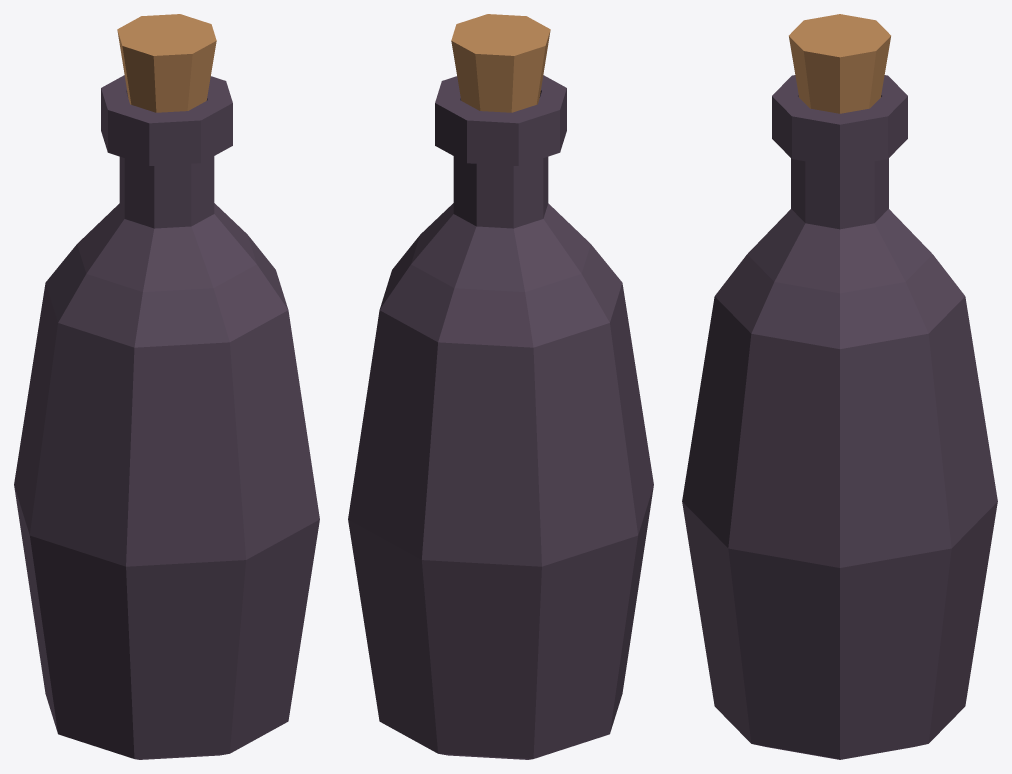
Rendered from Bottle1.fbx.
3 views of the same model, side by side, from view 1: azimuth 30°, elevation 25°; view 2: azimuth 150°, elevation 25°; view 3: azimuth 270°, elevation 25° (orthographic).
Parts seen in each view (by area): view 1: Bottle1; view 2: Bottle1; view 3: Bottle1.
Part boxes in pixels (x1=…): Bottle1: x1=14, y1=14, x2=319, y2=759; Bottle1: x1=348, y1=14, x2=653, y2=759; Bottle1: x1=682, y1=14, x2=997, y2=759.
Bounding box in the file's own units: 12.87 × 30.58 × 12.87.
